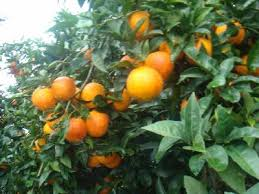orange: (126, 67, 164, 105), (83, 82, 110, 113), (85, 111, 110, 136), (67, 113, 85, 146), (52, 78, 76, 102), (130, 11, 149, 36)
